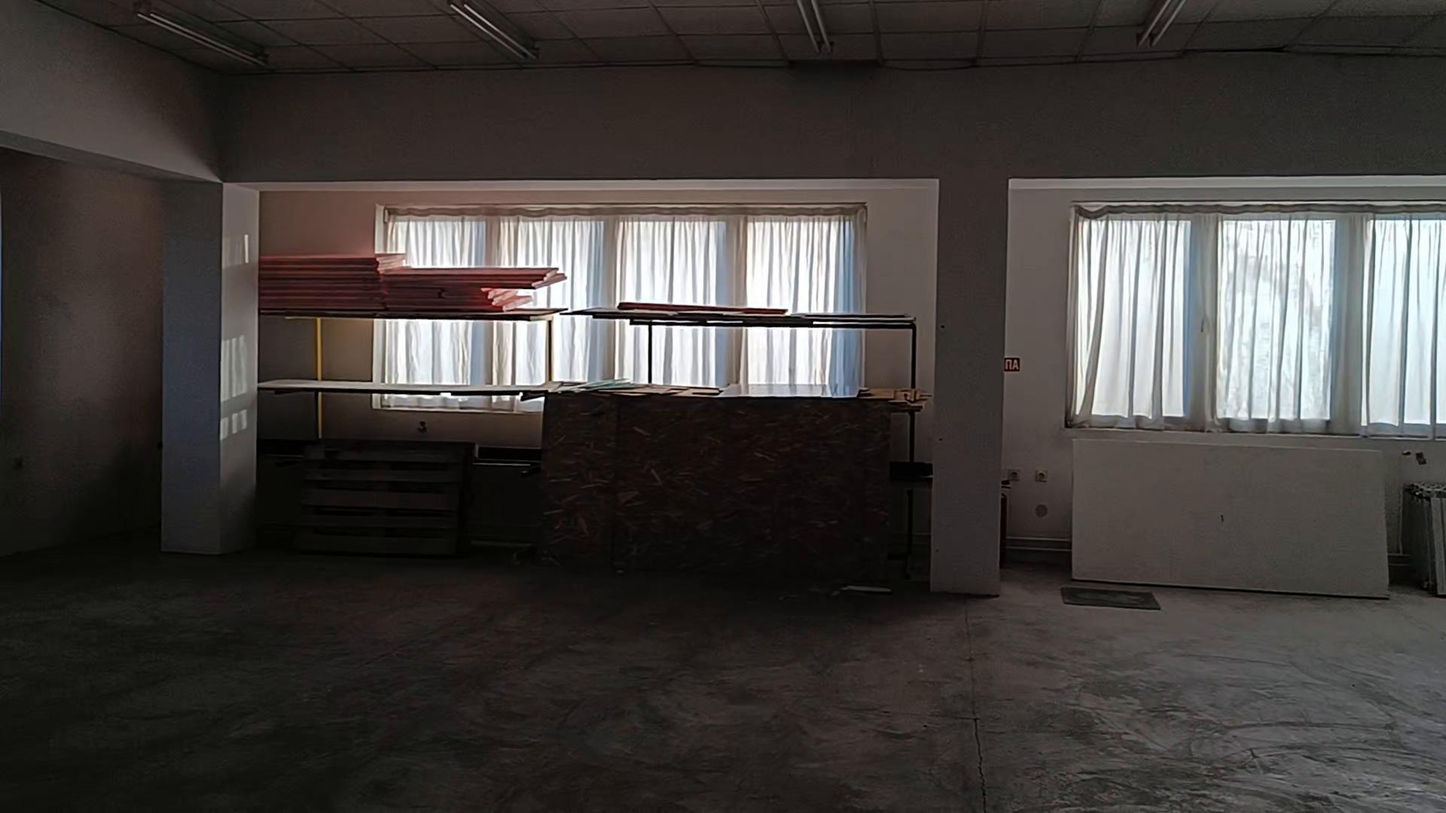ceiling: (41, 0, 1445, 72)
floor: (0, 550, 1445, 812)
wall: (4, 5, 1442, 595), (1010, 198, 1072, 527)
